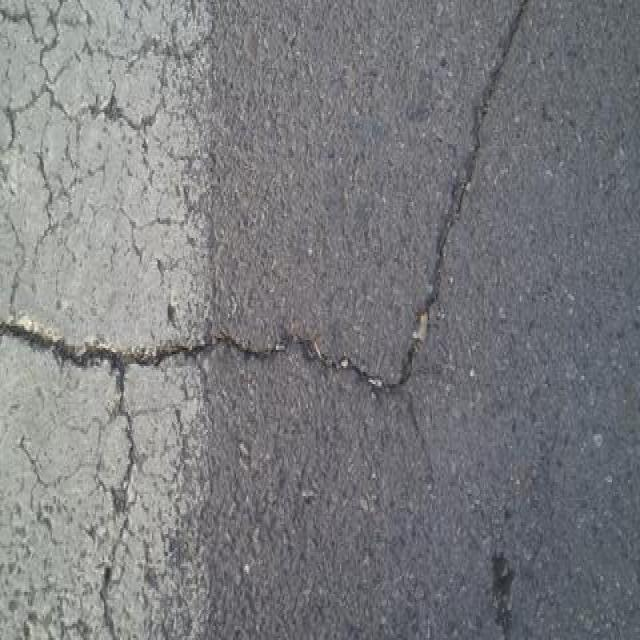GRIETA: (385, 0, 529, 388), (231, 334, 387, 391)
PIEL DE COCODRILO: (0, 0, 232, 639)
